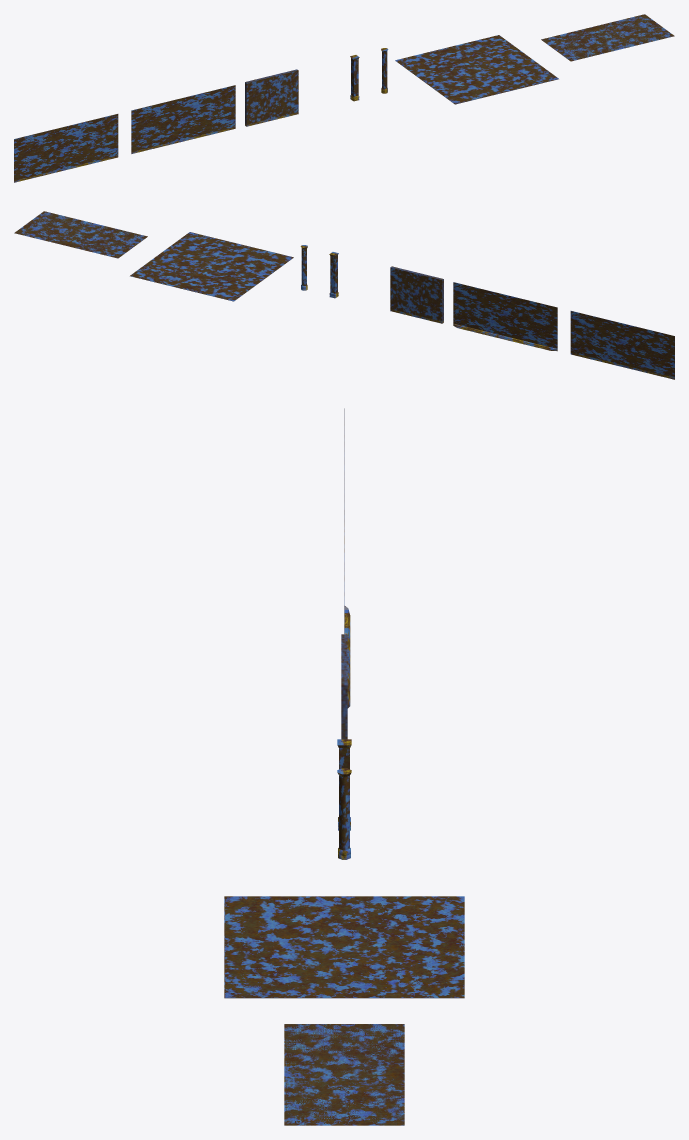
Rendered from wall_bioshock.fbx.
The picture shows the model from 3 angles, top to bottom: view 1: azimuth 30°, elevation 25°; view 2: azimuth 150°, elevation 25°; view 3: azimuth 270°, elevation 25°; orthographic projection. The views are drawn at different scales.
Visible parts, largest first — view 1: FloorBioshock, WallBioshock2, WallBioshock, ShortFloorBioshock, ShortWallBioshock, PillerBioshock, PillerBioshock2; view 2: FloorBioshock, WallBioshock2, WallBioshock, ShortFloorBioshock, ShortWallBioshock, PillerBioshock, PillerBioshock2; view 3: FloorBioshock, ShortFloorBioshock, PillerBioshock2.
Boxes of the visible parts, bbox=[...] form: FloorBioshock: bbox=[395, 35, 558, 104]; WallBioshock2: bbox=[131, 85, 235, 153]; WallBioshock: bbox=[14, 114, 118, 182]; ShortFloorBioshock: bbox=[541, 14, 674, 61]; ShortWallBioshock: bbox=[245, 69, 298, 126]; PillerBioshock: bbox=[350, 55, 359, 101]; PillerBioshock2: bbox=[381, 48, 388, 93]; FloorBioshock: bbox=[130, 232, 293, 301]; WallBioshock2: bbox=[453, 282, 557, 351]; WallBioshock: bbox=[570, 311, 674, 379]; ShortFloorBioshock: bbox=[14, 211, 147, 258]; ShortWallBioshock: bbox=[390, 266, 443, 323]; PillerBioshock: bbox=[329, 252, 338, 298]; PillerBioshock2: bbox=[300, 245, 307, 290]; FloorBioshock: bbox=[224, 896, 464, 998]; ShortFloorBioshock: bbox=[284, 1024, 404, 1125]; PillerBioshock2: bbox=[337, 768, 351, 859].
Size of the model in its own units: 124 by 8.01 by 20.
